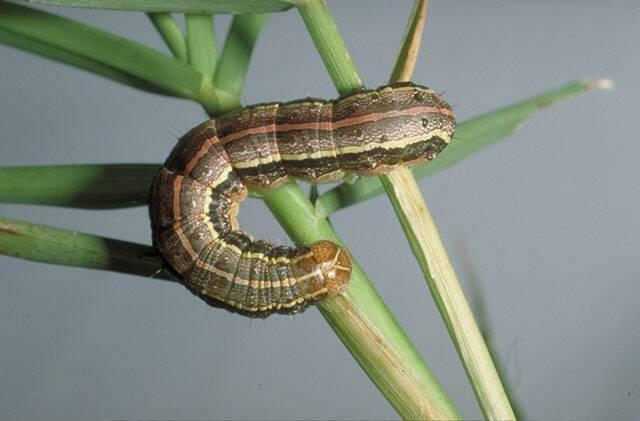caterpillars: (131, 59, 474, 341)
